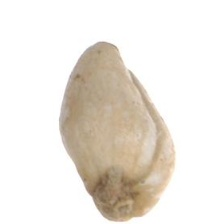L1: (94, 172, 143, 222), (89, 39, 130, 69)
L2: (58, 41, 175, 222)
